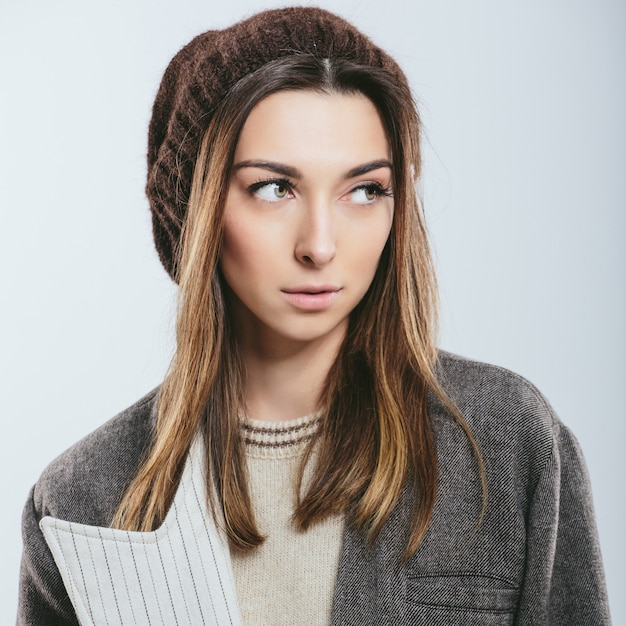teen: (156, 26, 407, 353)
